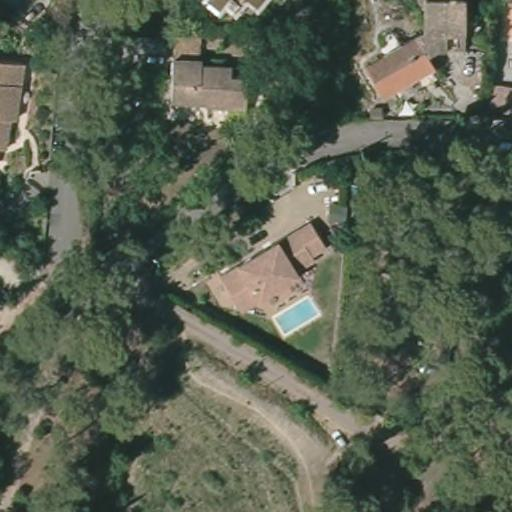pool: (270, 295, 320, 337)
